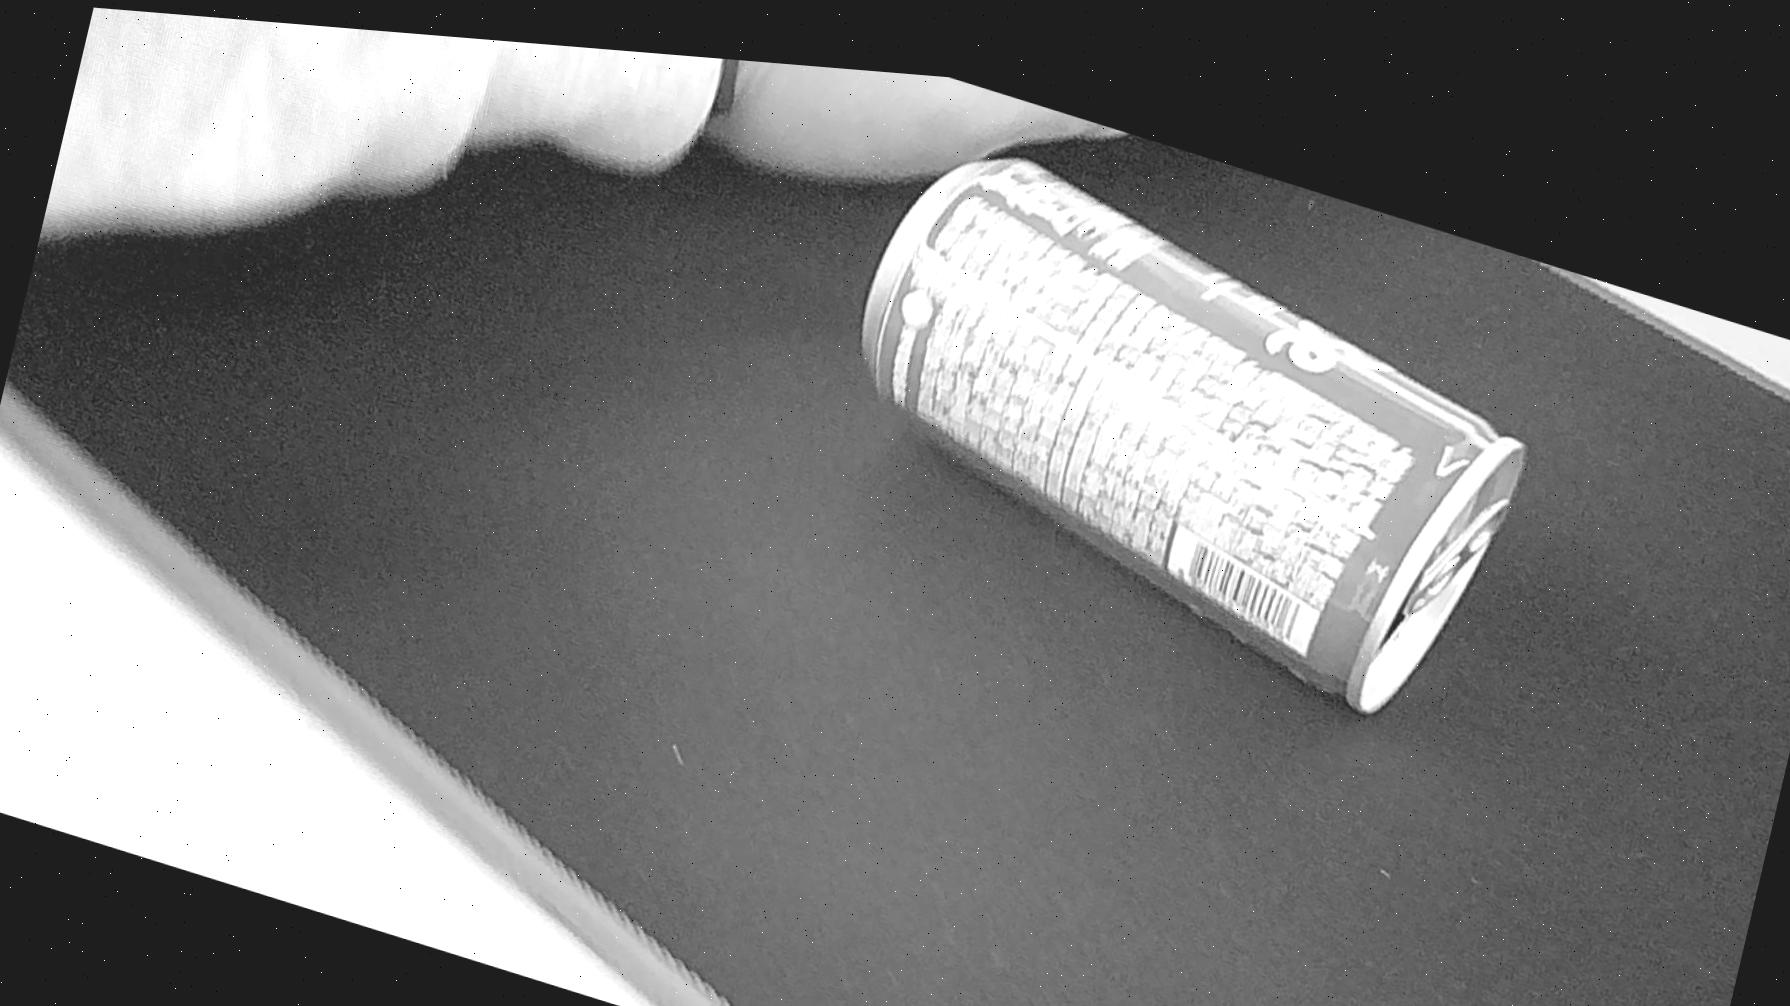letsbe: (806, 97, 1558, 727)
